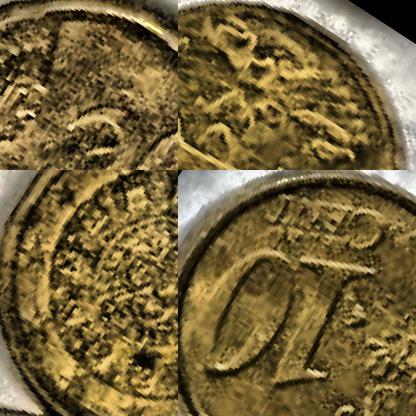coin: (178, 170, 415, 415), (0, 170, 177, 415), (178, 0, 415, 169), (0, 0, 177, 169)
